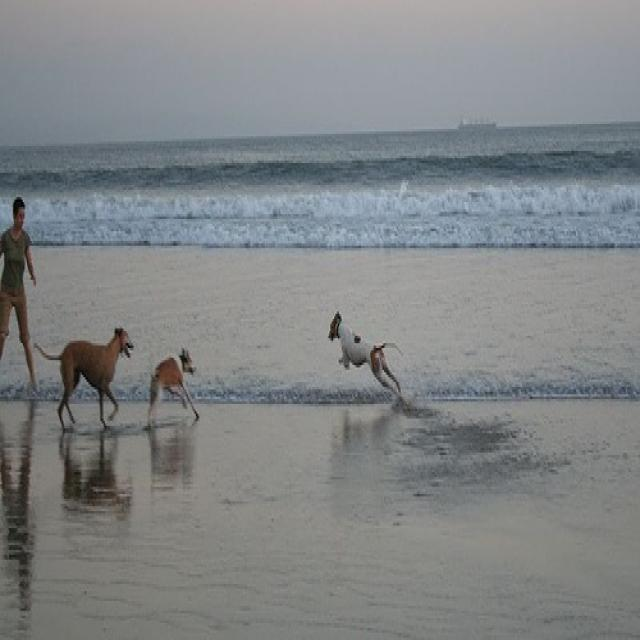dog: (32, 314, 128, 436), (322, 309, 408, 414), (140, 338, 202, 441)
